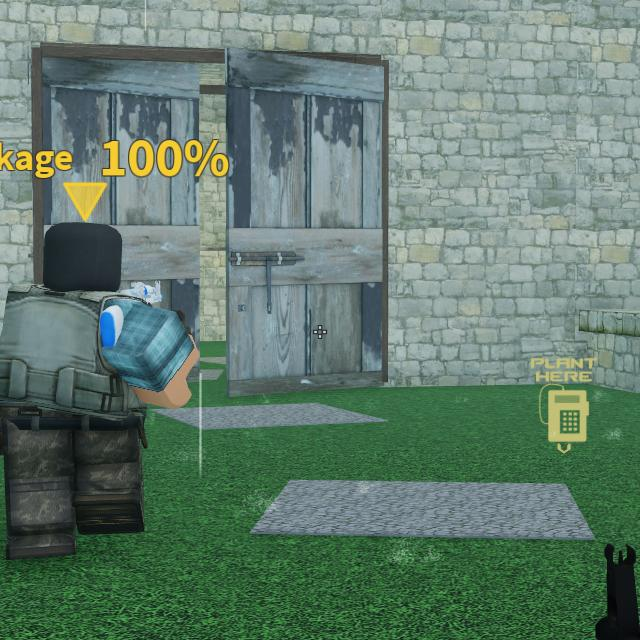Head: (45, 223, 122, 290)
Player: (0, 223, 202, 557)
